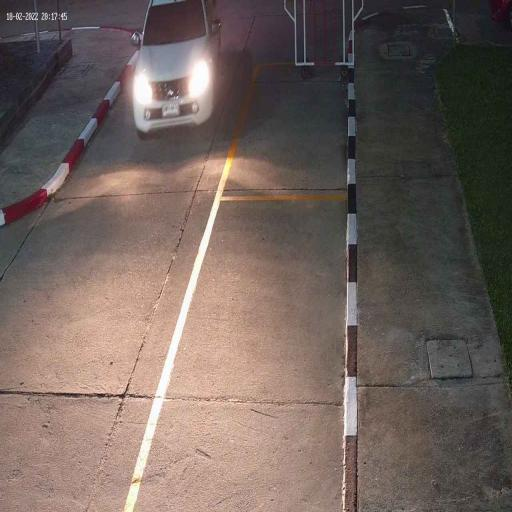car: (132, 0, 222, 140)
